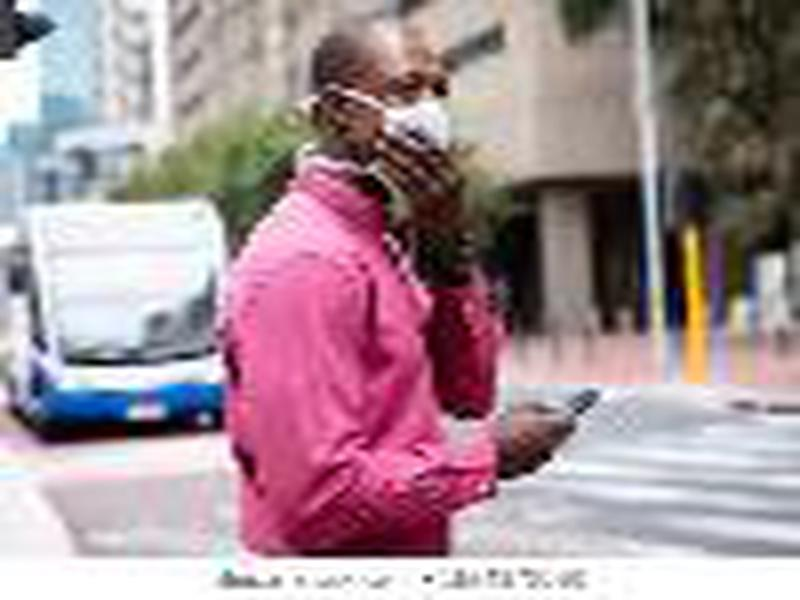with_mask: (306, 18, 456, 180)
